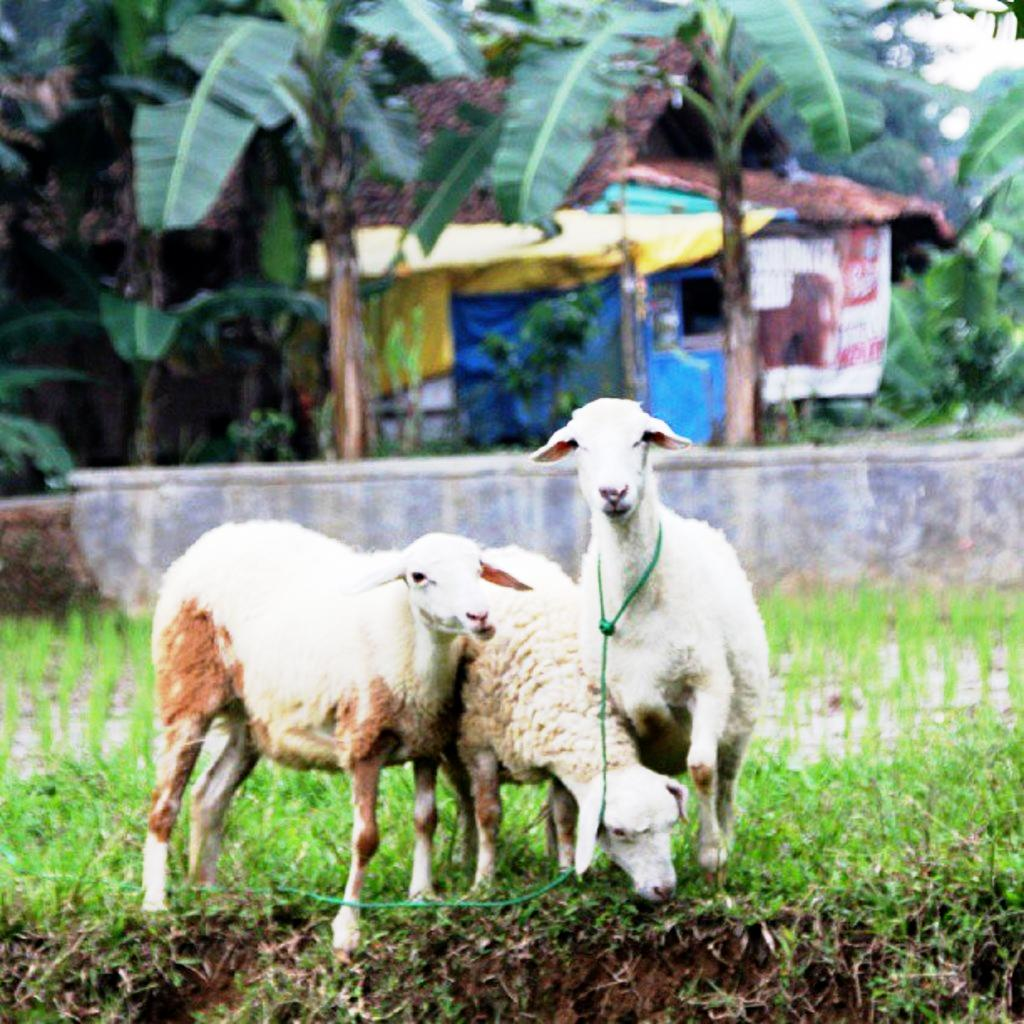Sheep: (146, 525, 532, 942), (438, 547, 694, 902)
